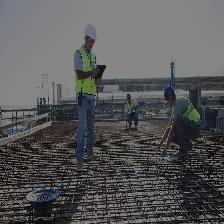Person: (73, 21, 103, 169), (157, 84, 200, 167), (124, 90, 140, 134)
helmet: (86, 27, 97, 40), (162, 88, 177, 97), (125, 93, 133, 101)
vest: (78, 47, 96, 93), (177, 98, 199, 124), (127, 102, 137, 112)
